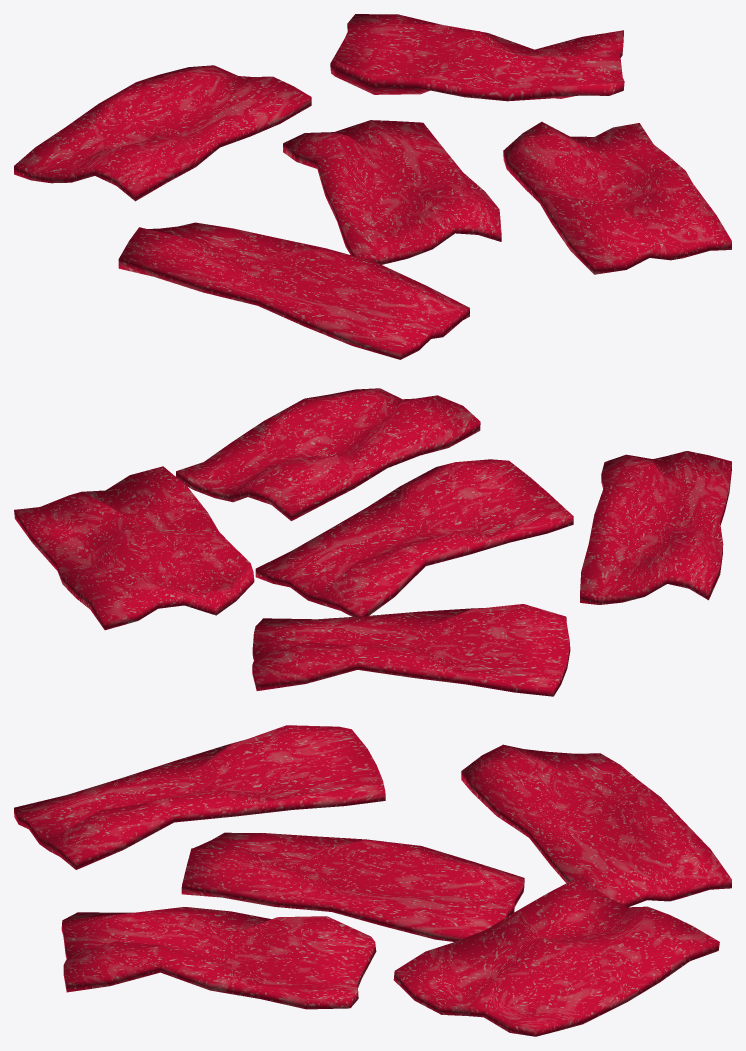
File: yakiniku_00_t.glb
3 renders of one model, top to bottom at view 1: azimuth 30°, elevation 25°; view 2: azimuth 150°, elevation 25°; view 3: azimuth 270°, elevation 25°, orthographic. The views are drawn at different scales.
Visible parts, largest first — view 1: yakiniku; view 2: yakiniku; view 3: yakiniku.
Boxes of the visible parts, x1,y1,x2,y2 form: yakiniku: (14,14,731,359); yakiniku: (14,388,731,696); yakiniku: (14,725,731,1036).
Size of the model in its own units: 0.1823 by 0.0146 by 0.1811.
Materials: 1 (1 with a texture image).
